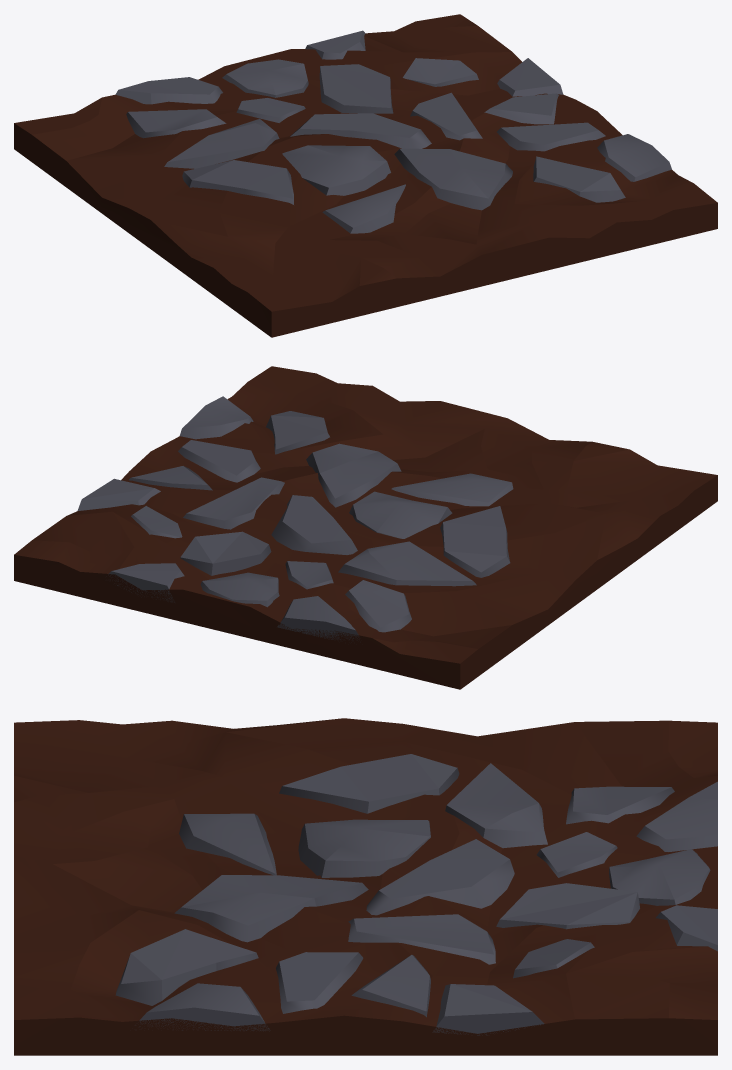
Rendered from Ground_Stone_Path_Turn_LB.fbx.
3 renders of one model, top to bottom at view 1: azimuth 30°, elevation 25°; view 2: azimuth 150°, elevation 25°; view 3: azimuth 270°, elevation 25°, orthographic. The views are drawn at different scales.
Visible parts, largest first — view 1: Ground_Stone_Path_Turn_LB; view 2: Ground_Stone_Path_Turn_LB; view 3: Ground_Stone_Path_Turn_LB.
Boxes of the visible parts, x1=… form: Ground_Stone_Path_Turn_LB: x1=14, y1=14, x2=717, y2=337; Ground_Stone_Path_Turn_LB: x1=14, y1=366, x2=717, y2=689; Ground_Stone_Path_Turn_LB: x1=14, y1=718, x2=717, y2=1055.
Size of the model in its own units: 147 by 13.54 by 147.
